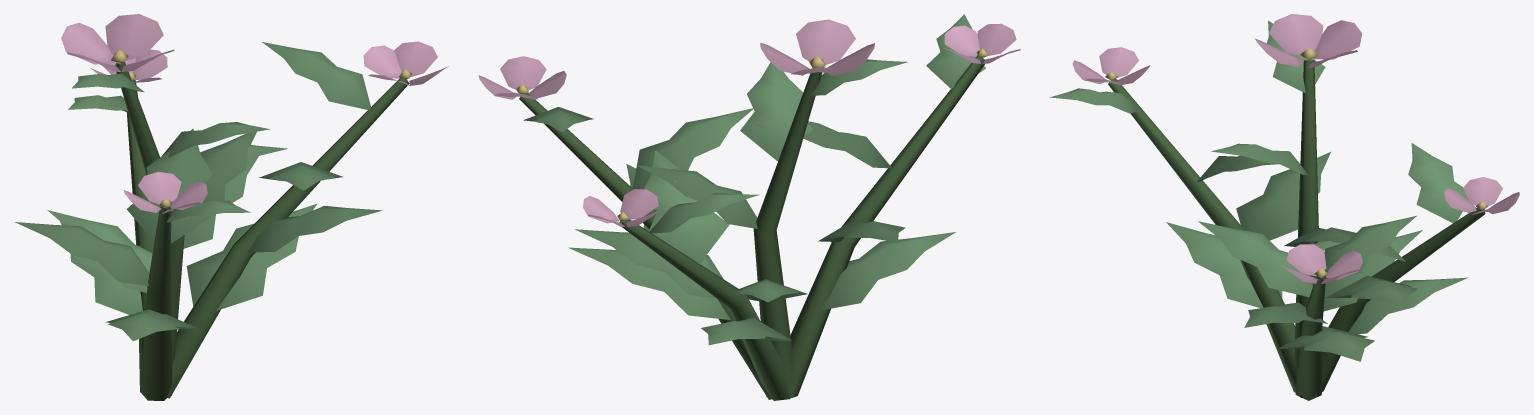
Rendered from sea_rocket.glb.
3 renders of one model, left to right at view 1: azimuth 30°, elevation 25°; view 2: azimuth 150°, elevation 25°; view 3: azimuth 270°, elevation 25°, orthographic. The views are drawn at different scales.
Visible parts, largest first — view 1: sea_rocket; view 2: sea_rocket; view 3: sea_rocket.
Part boxes in pixels (bbox=[...]): sea_rocket: bbox=[15, 14, 448, 400]; sea_rocket: bbox=[478, 14, 1020, 400]; sea_rocket: bbox=[1049, 14, 1519, 400].
Size of the model in its own units: 0.3683 by 0.3059 by 0.3805.
